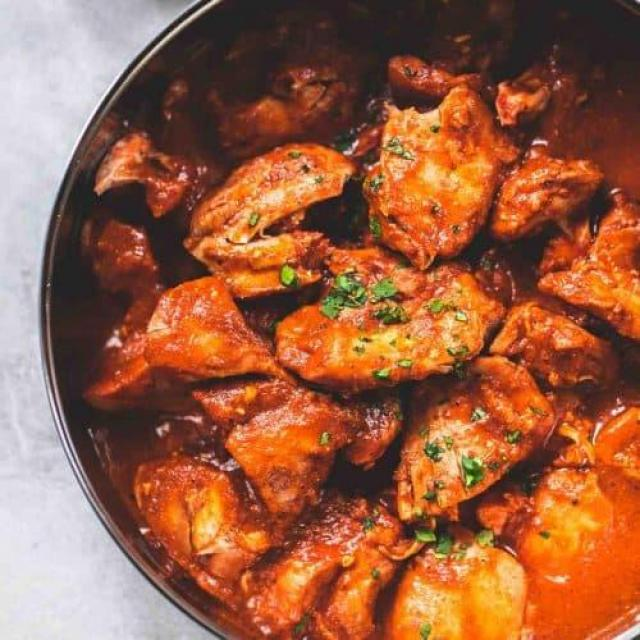chicken: (66, 12, 640, 640)
